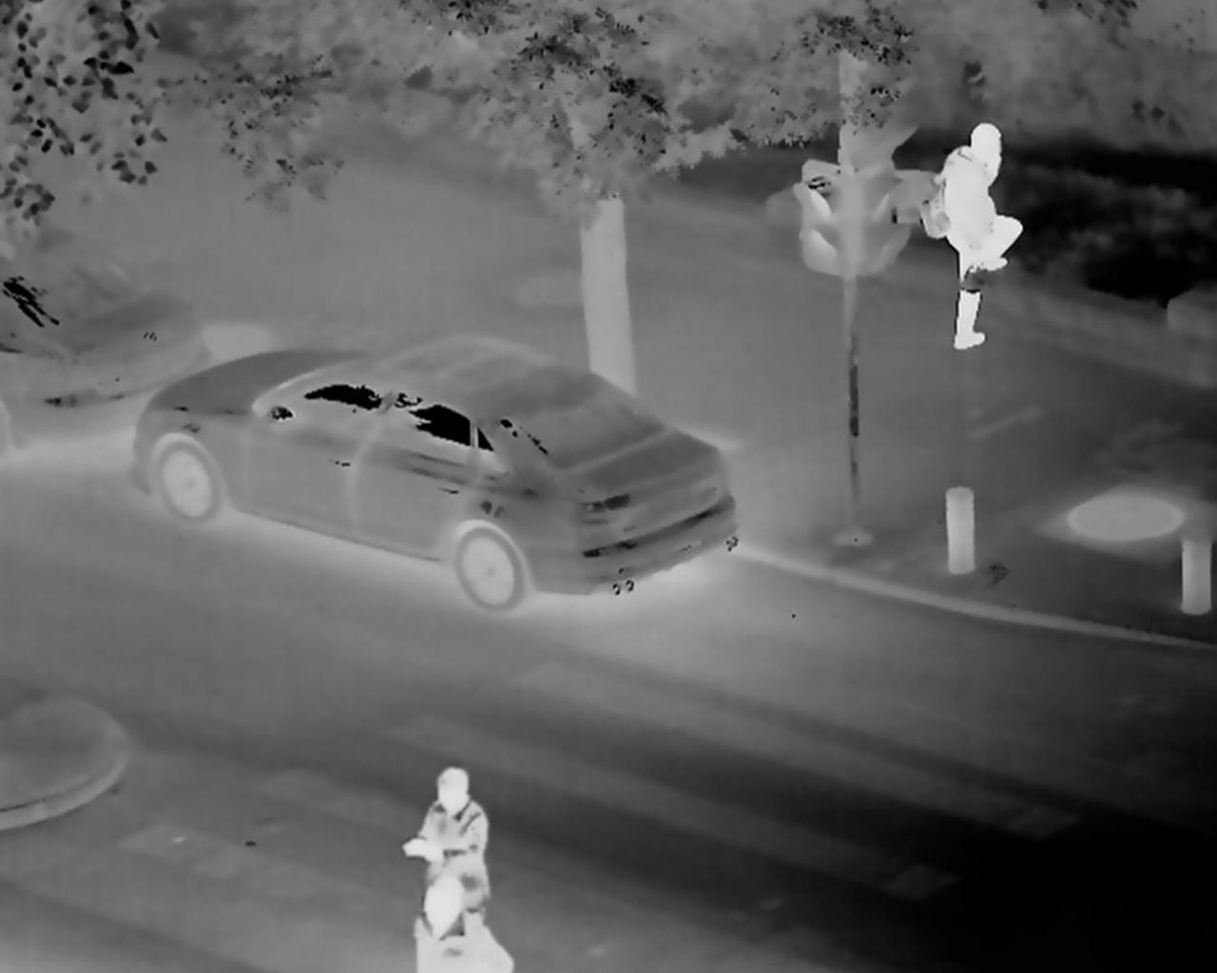person: (912, 113, 1026, 357), (409, 756, 518, 937), (388, 880, 520, 973)
